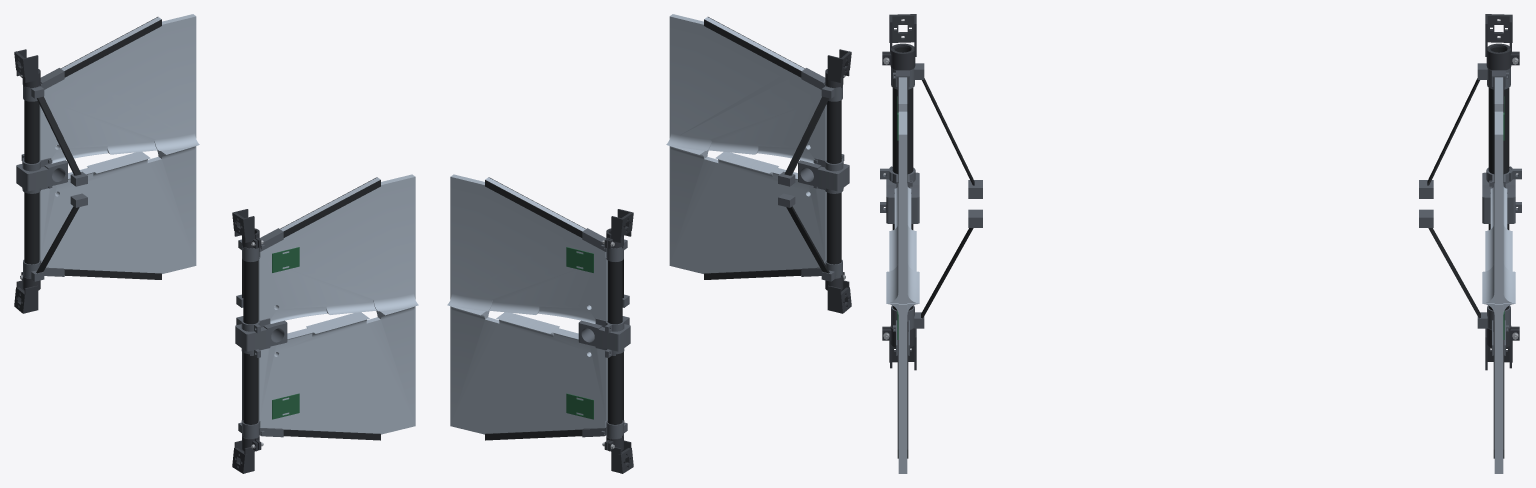
Rendered from fins.glb.
The picture shows the model from 3 angles, left to right: view 1: azimuth 30°, elevation 25°; view 2: azimuth 150°, elevation 25°; view 3: azimuth 270°, elevation 25°; orthographic projection. The views are drawn at different scales.
Visible parts, largest first — view 1: FIN-001-LL, FIN-001-UR, FIN-001-UL, FIN-001-LR, FIN-002-R, FIN-002-L, FIN-004-R, FIN-004-L, FIN-003-LR, FIN-003-UL, FIN-003-LL, FIN-003-UR (+12 smaller); view 2: FIN-001-LR, FIN-001-UL, FIN-001-UR, FIN-001-LL, FIN-002-L, FIN-002-R, FIN-004-L, FIN-004-R, FIN-003-LL, FIN-003-UR, FIN-003-LR, FIN-003-UL (+12 smaller); view 3: FIN-001-UR, FIN-001-UL, FIN-001-LR, FIN-001-LL, FIN-003-UR, FIN-003-UL, FIN-002-R, FIN-002-L, FIN-004-R, FIN-004-L.
Part boxes in pixels (x1,y1,x2,y2): FIN-001-LL: (258,305,418,434); FIN-001-UR: (39,14,199,163); FIN-001-UL: (258,174,418,323); FIN-001-LR: (39,144,199,273); FIN-002-R: (24,100,39,264); FIN-002-L: (243,231,258,424); FIN-004-R: (16,158,67,193); FIN-004-L: (235,318,287,354); FIN-003-LR: (14,272,40,313); FIN-003-UL: (232,209,261,248); FIN-003-LL: (232,435,261,473); FIN-003-UR: (14,49,40,87); FIN-001-LR: (447,305,607,434); FIN-001-UL: (666,14,826,163); FIN-001-UR: (447,174,607,323); FIN-001-LL: (666,144,826,273); FIN-002-L: (826,100,841,264); FIN-002-R: (607,231,622,424); FIN-004-L: (798,158,849,193); FIN-004-R: (578,318,630,354); FIN-003-LL: (825,272,851,313); FIN-003-UR: (604,209,633,248); FIN-003-LR: (604,435,633,473); FIN-003-UL: (825,49,851,87); FIN-001-UR: (1482,77,1515,303); FIN-001-UL: (886,77,919,303); FIN-001-LR: (1482,303,1515,473); FIN-001-LL: (886,303,919,473); FIN-003-UR: (1485,14,1519,70); FIN-003-UL: (882,14,916,70); FIN-002-R: (1488,47,1509,310); FIN-002-L: (892,47,913,310); FIN-004-R: (1482,167,1515,223); FIN-004-L: (886,167,919,223).
Size of the model in its own units: 0.2981 by 0.42 by 0.6891.
